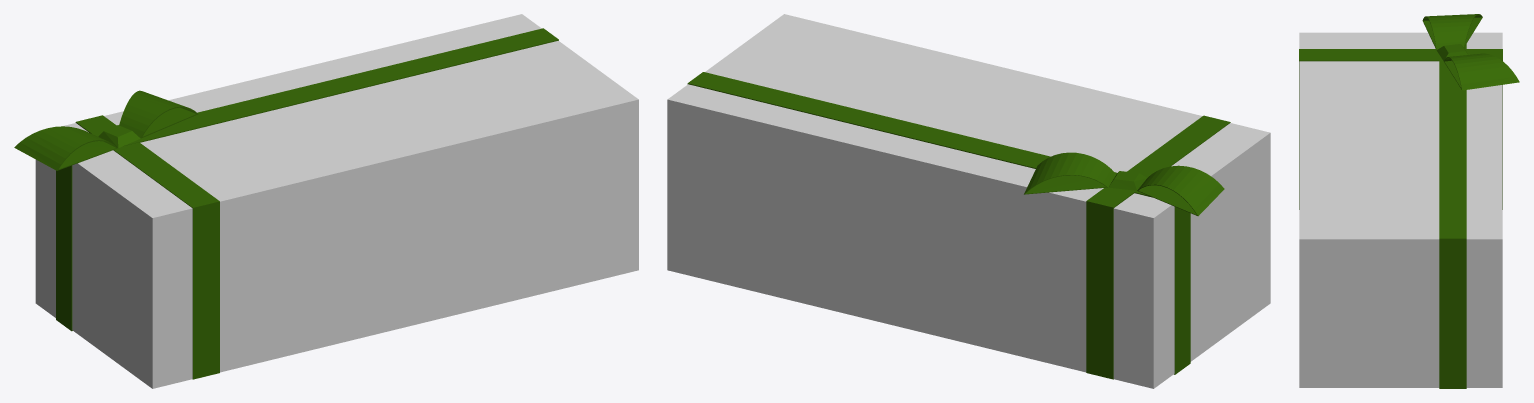
Rendered from Prop_Christmas_Present_White_06.FBX.
The picture shows the model from 3 angles, left to right: view 1: azimuth 30°, elevation 25°; view 2: azimuth 150°, elevation 25°; view 3: azimuth 270°, elevation 25°; orthographic projection. The views are drawn at different scales.
Parts seen in each view (by area): view 1: Prop_Christmas_Present_White_06; view 2: Prop_Christmas_Present_White_06; view 3: Prop_Christmas_Present_White_06.
Part boxes in pixels (x1,y1,x2,y2): Prop_Christmas_Present_White_06: (14, 14, 638, 388); Prop_Christmas_Present_White_06: (667, 14, 1270, 388); Prop_Christmas_Present_White_06: (1299, 14, 1519, 388).
Size of the model in its own units: 852 by 298 by 360.
